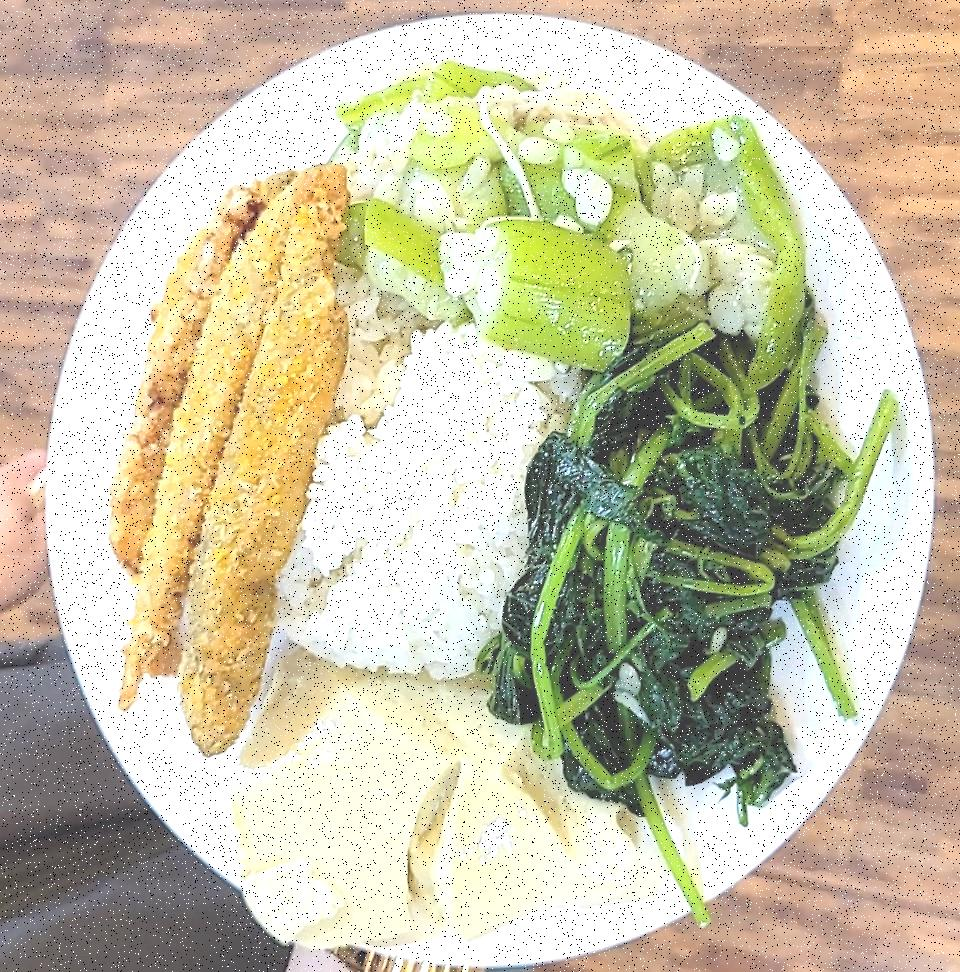fried shishamo: (94, 148, 356, 760)
plate: (31, 17, 942, 957)
side dish: (498, 336, 884, 803), (347, 61, 812, 362), (228, 666, 638, 952)
white rice: (284, 330, 559, 675)
